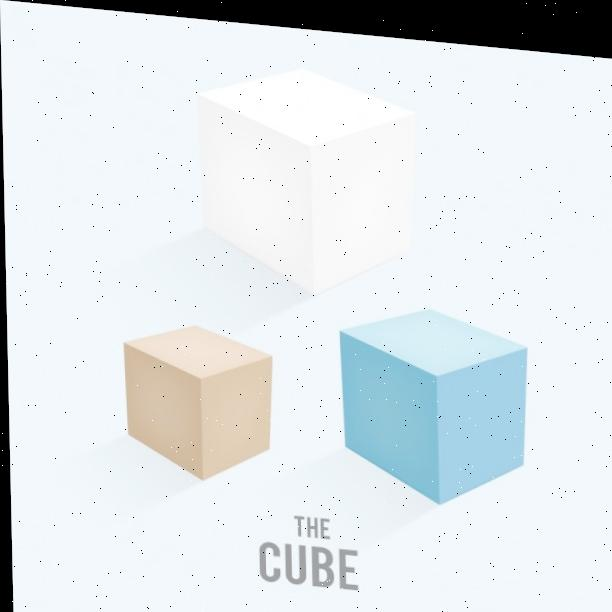cube: (338, 296, 530, 506), (116, 319, 275, 484)
